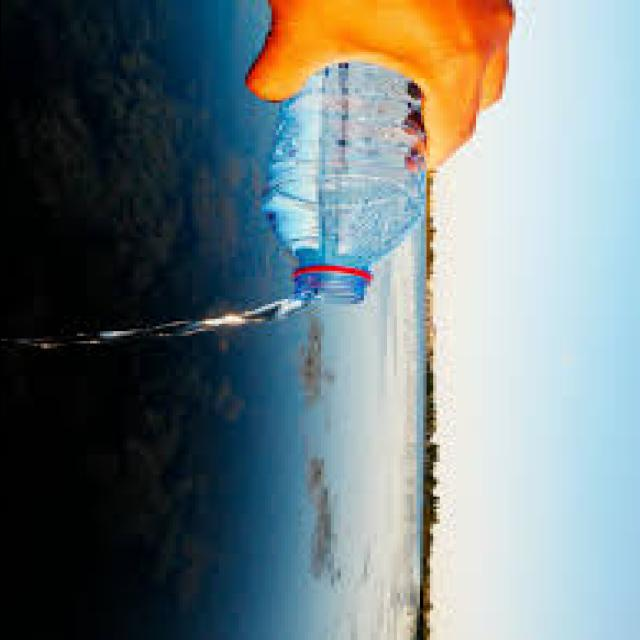bottle: (263, 63, 423, 272), (295, 272, 368, 303)
